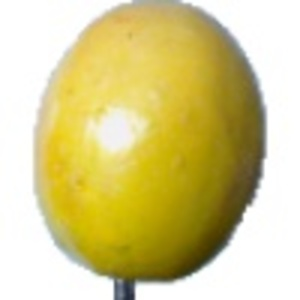maracujá: (31, 1, 274, 300)
